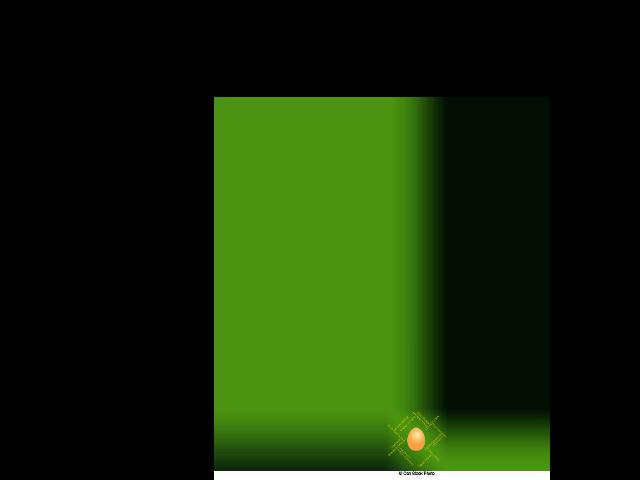egg: (407, 427, 425, 450)
